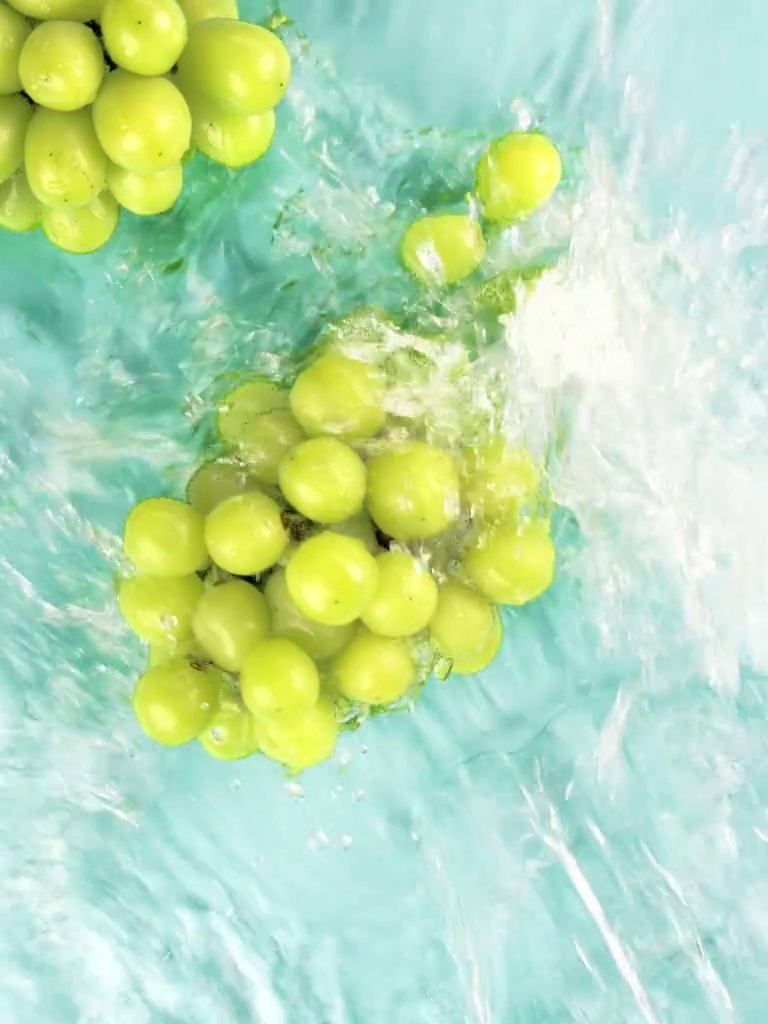grape: (118, 132, 565, 775), (1, 1, 286, 253)
